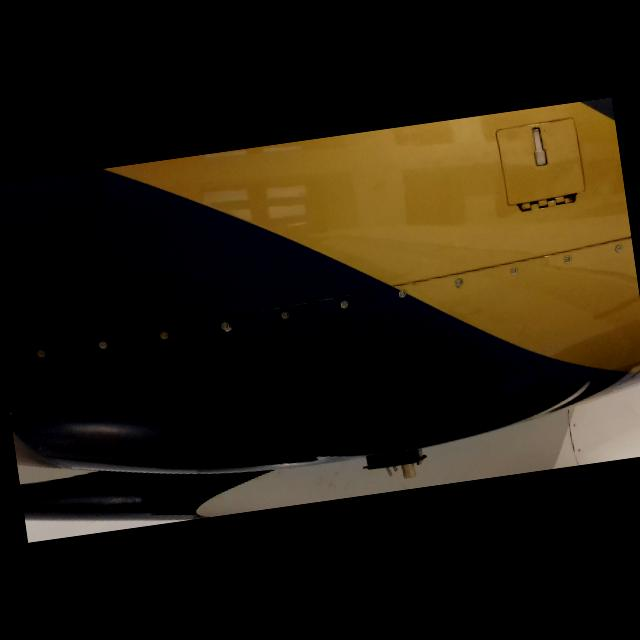Missing Fastener: (31, 442, 44, 453)
